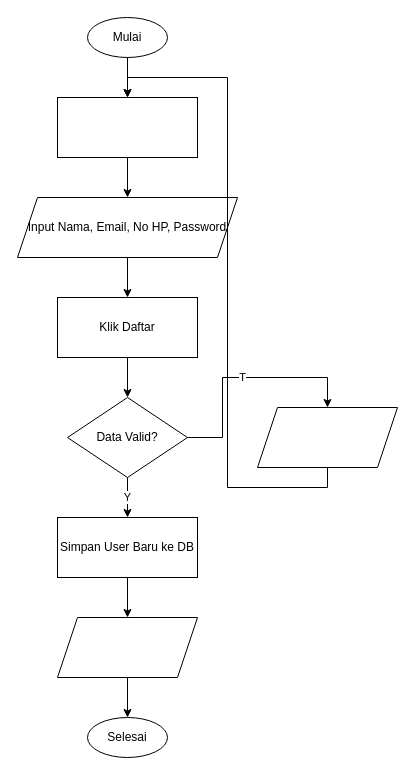
Image size: 415x775. Some labels were removed from this diagram. The box of each missing label's shape, as (x1, y1, x2, y2) in pixels:
Halaman Registrasi: (56, 96, 198, 158)
Registrasi Berhasil: (56, 616, 198, 678)
Tampil Pesan Error: (256, 406, 398, 468)
